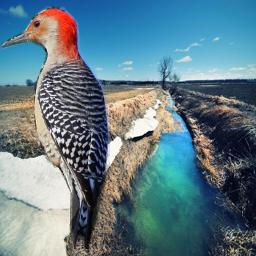Woodpecker: (1, 6, 110, 249)
